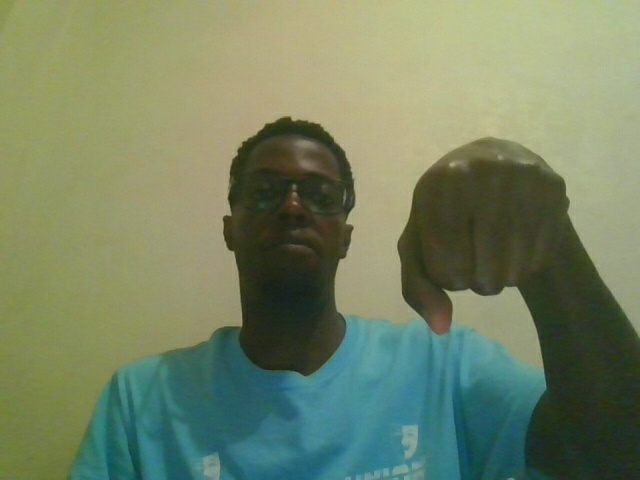Yes: (394, 103, 640, 374)
